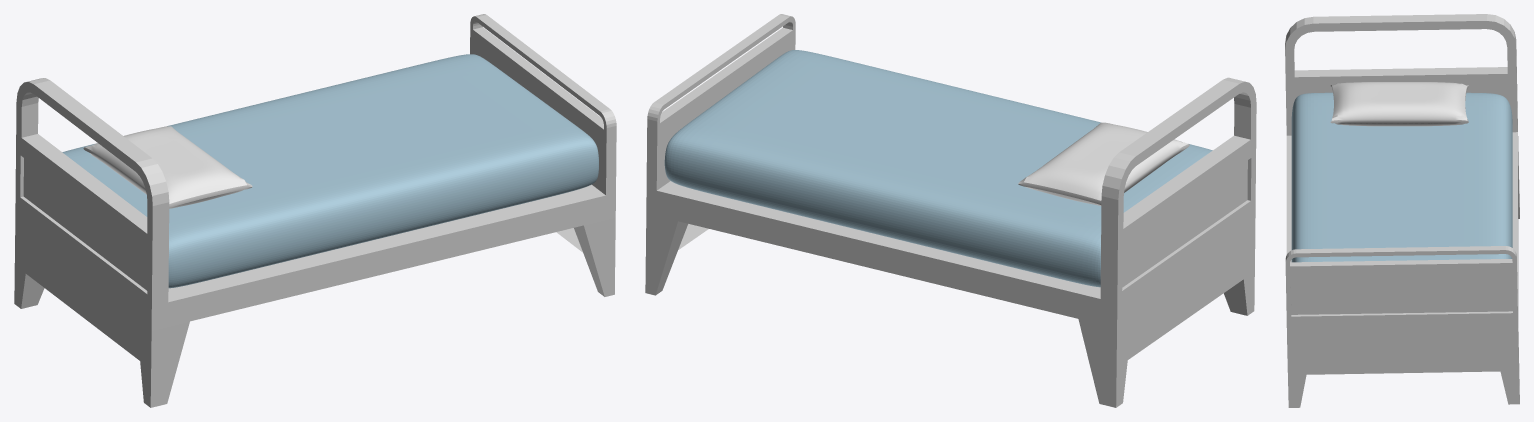
The model's file is kasur.fbx.
3 renders of one model, left to right at view 1: azimuth 30°, elevation 25°; view 2: azimuth 150°, elevation 25°; view 3: azimuth 270°, elevation 25°, orthographic. The views are drawn at different scales.
Visible parts, largest first — view 1: Cube, Cube.001, Plane; view 2: Cube, Cube.001, Plane; view 3: Cube.001, Cube, Plane.
Boxes of the visible parts, x1,y1,x2,y2 form: Cube: (62, 54, 598, 288); Cube.001: (14, 14, 616, 407); Plane: (83, 126, 252, 208); Cube: (664, 50, 1212, 287); Cube.001: (645, 14, 1256, 407); Plane: (1018, 122, 1189, 205); Cube.001: (1285, 14, 1519, 407); Cube: (1291, 92, 1512, 262); Plane: (1330, 82, 1468, 126).
Size of the model in its own units: 637 by 312 by 329.
